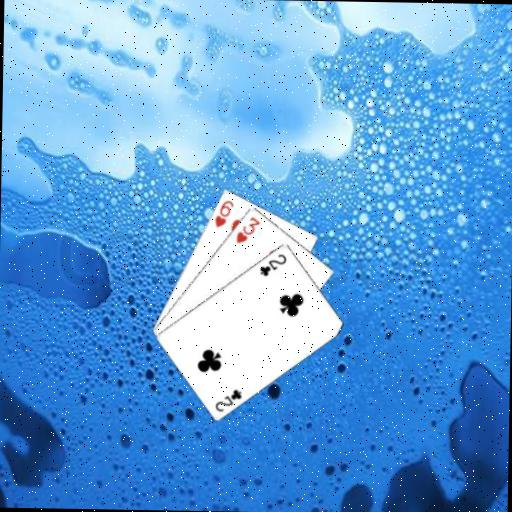2C: (257, 251, 289, 279), (212, 385, 244, 413)
3H: (233, 213, 262, 245)
6H: (211, 197, 235, 229)
